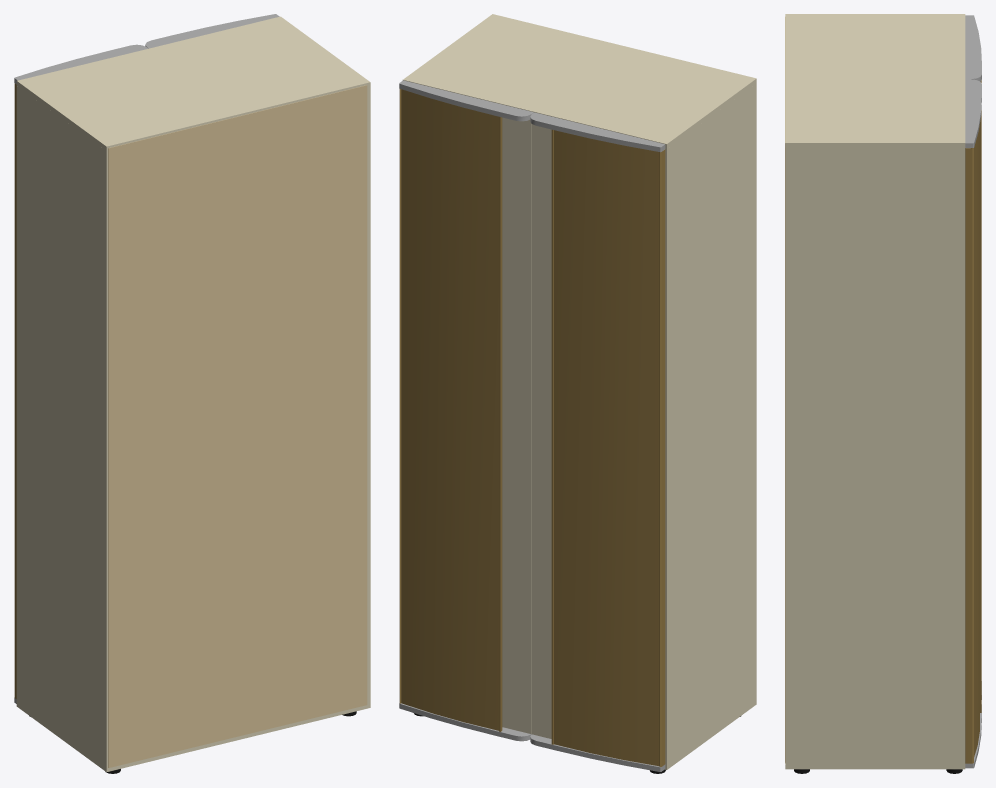
The model's file is Wardrobe 1.fbx.
3 views of the same model, side by side, from view 1: azimuth 30°, elevation 25°; view 2: azimuth 150°, elevation 25°; view 3: azimuth 270°, elevation 25° (orthographic).
Parts seen in each view (by area): view 1: 3.001, Rectangle4, Rectangle1, Rectangle0, DoorRightMirror, Rectangle3, DoorRightMountTop, DoorLeftMountTop; view 2: DoorRightMirror, DoorLeftMirror, Rectangle4, Rectangle1, DoorLeft, DoorRight, DoorRightMountTop, DoorLeftMountTop, DoorRightMountBottom, DoorLeftMountBottom; view 3: Rectangle0, Rectangle1, DoorLeftMirror, Rectangle3, DoorLeftMountTop, DoorRightMountTop, 3.001.
Boxes of the visible parts, left/top/right/bottom form: 3.001: left=108, top=85, right=367, bottom=767; Rectangle4: left=16, top=86, right=107, bottom=767; Rectangle1: left=16, top=16, right=370, bottom=151; Rectangle0: left=367, top=87, right=370, bottom=703; DoorRightMirror: left=14, top=83, right=16, bottom=698; Rectangle3: left=16, top=702, right=370, bottom=772; DoorRightMountTop: left=14, top=44, right=148, bottom=84; DoorLeftMountTop: left=145, top=14, right=279, bottom=48; DoorRightMirror: left=551, top=129, right=665, bottom=766; DoorLeftMirror: left=399, top=89, right=502, bottom=731; Rectangle4: left=665, top=83, right=756, bottom=765; Rectangle1: left=402, top=14, right=756, bottom=148; DoorLeft: left=502, top=117, right=531, bottom=733; DoorRight: left=531, top=124, right=664, bottom=738; DoorRightMountTop: left=530, top=112, right=665, bottom=152; DoorLeftMountTop: left=399, top=80, right=533, bottom=121; DoorRightMountBottom: left=530, top=734, right=665, bottom=771; DoorLeftMountBottom: left=399, top=703, right=531, bottom=741; Rectangle0: left=785, top=147, right=965, bottom=764; Rectangle1: left=785, top=14, right=965, bottom=147; DoorLeftMirror: left=965, top=110, right=981, bottom=763; Rectangle3: left=785, top=763, right=965, bottom=769; DoorLeftMountTop: left=965, top=79, right=981, bottom=147; DoorRightMountTop: left=965, top=15, right=981, bottom=81; 3.001: left=785, top=17, right=785, bottom=763.
Bounding box in the file's own units: 78.77 × 181 × 50.85.
